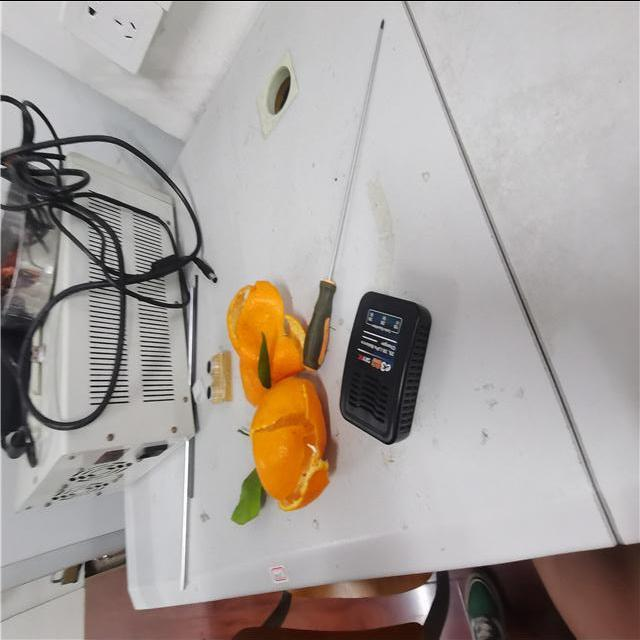orange peel: (248, 374, 331, 524), (230, 279, 298, 408)
